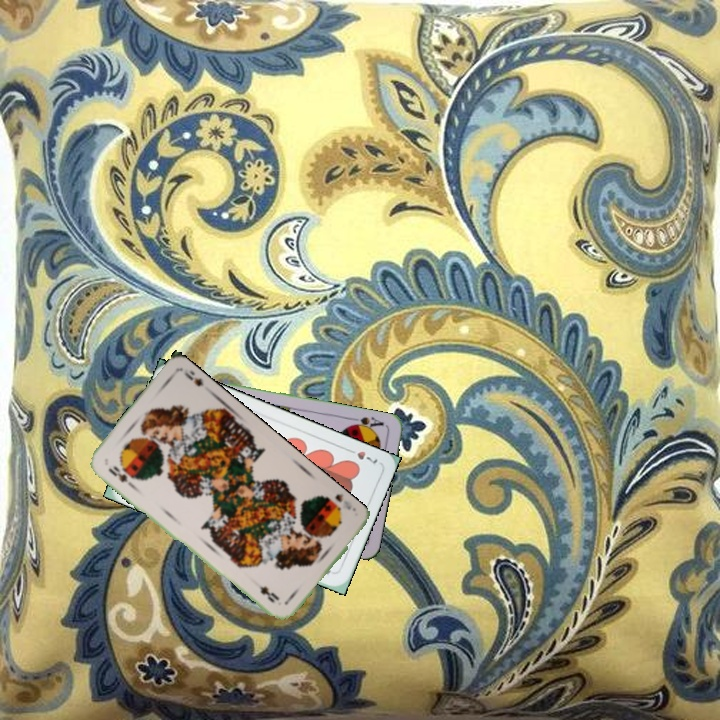H7: (342, 444, 380, 466)
SA: (346, 413, 386, 433)
SO: (104, 462, 136, 490), (319, 492, 358, 514)
